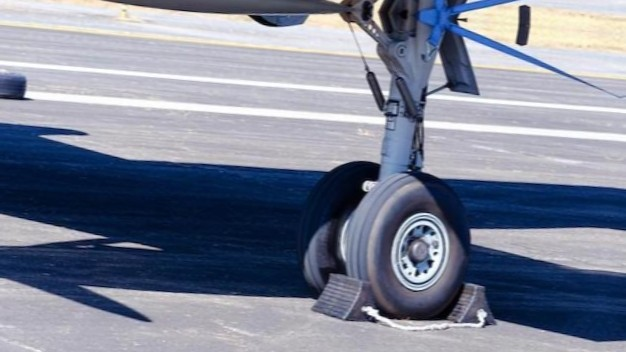chock: (309, 268, 383, 326), (432, 279, 502, 331)
wheel: (345, 168, 475, 324), (289, 153, 381, 301), (0, 70, 27, 100)
